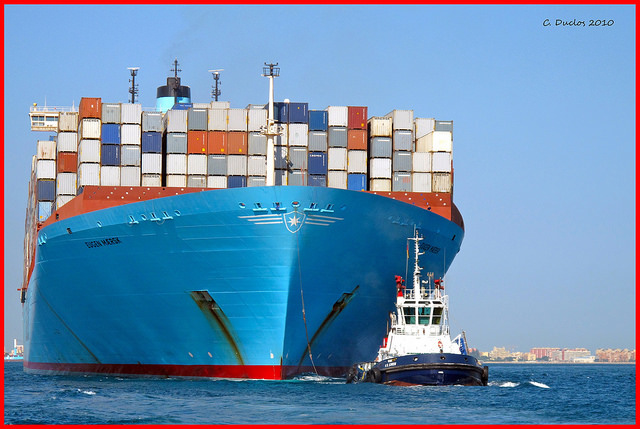container_ship: (20, 55, 466, 380)
tug_boat: (350, 226, 489, 387)
